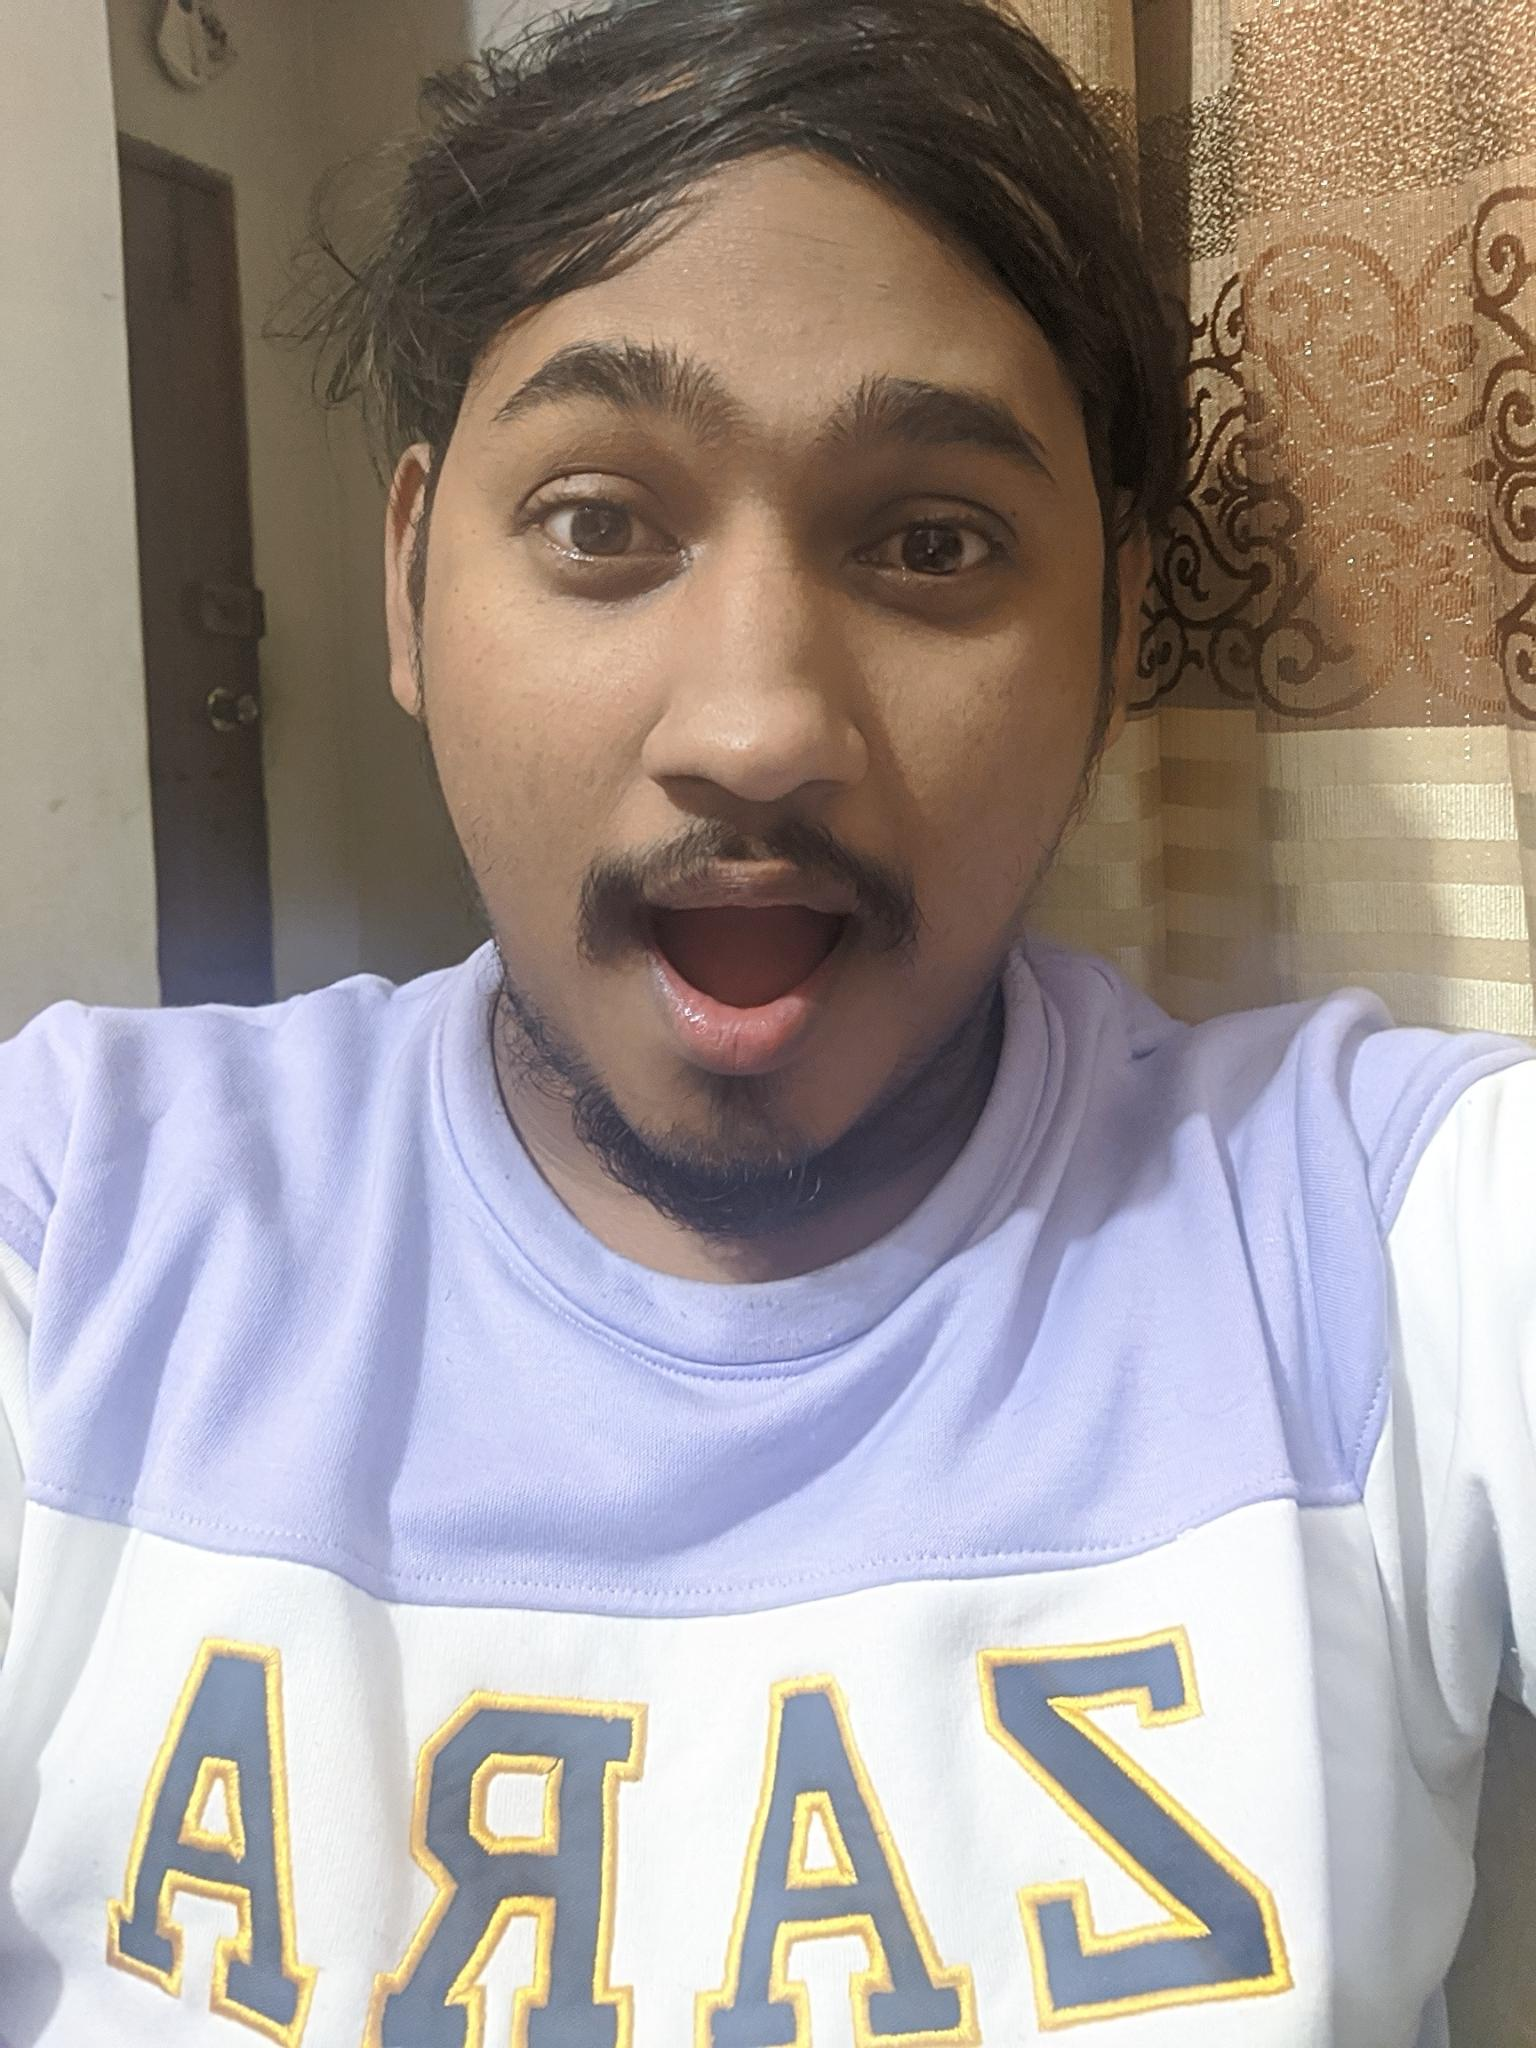Surprise: (392, 250, 1094, 1222)
